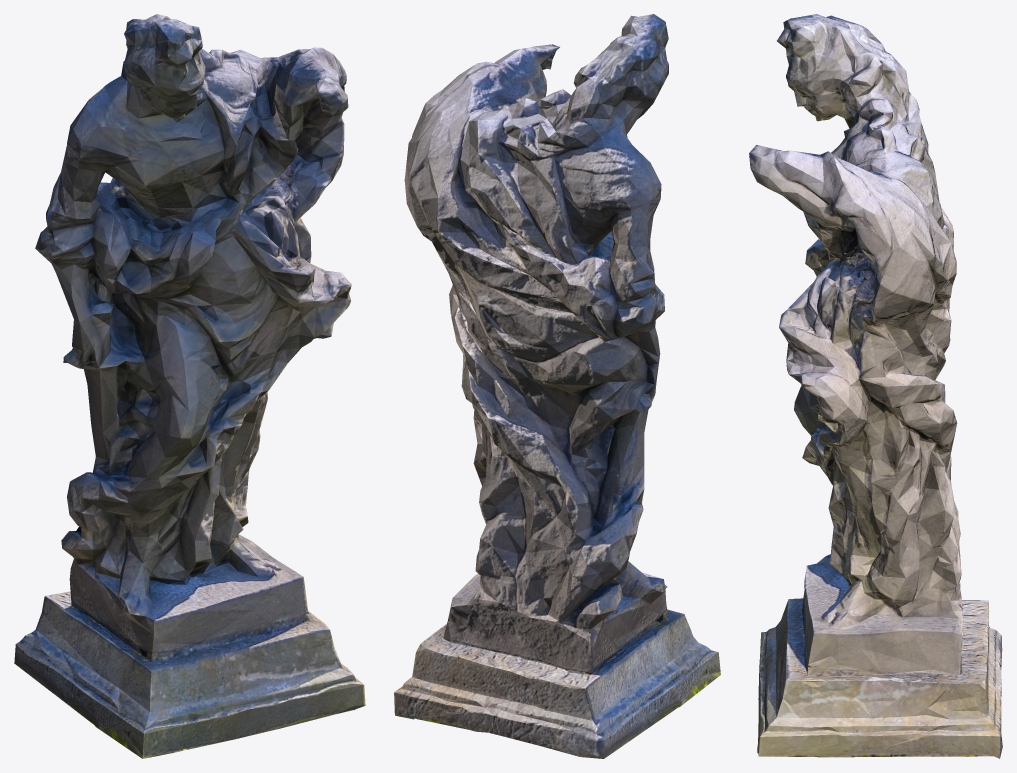
Rendered from spravedlnost.glb.
The picture shows the model from 3 angles, left to right: view 1: azimuth 30°, elevation 25°; view 2: azimuth 150°, elevation 25°; view 3: azimuth 270°, elevation 25°; orthographic projection. The views are drawn at different scales.
Visible parts, largest first — view 1: Spravedlnost; view 2: Spravedlnost; view 3: Spravedlnost.
Boxes of the visible parts, x1,y1,x2,y2 form: Spravedlnost: (14, 14, 365, 758); Spravedlnost: (394, 14, 720, 758); Spravedlnost: (749, 14, 1002, 758).
Bounding box in the file's own units: 1.11 × 2.64 × 0.9128.
Materials: 1 (1 with a texture image).
